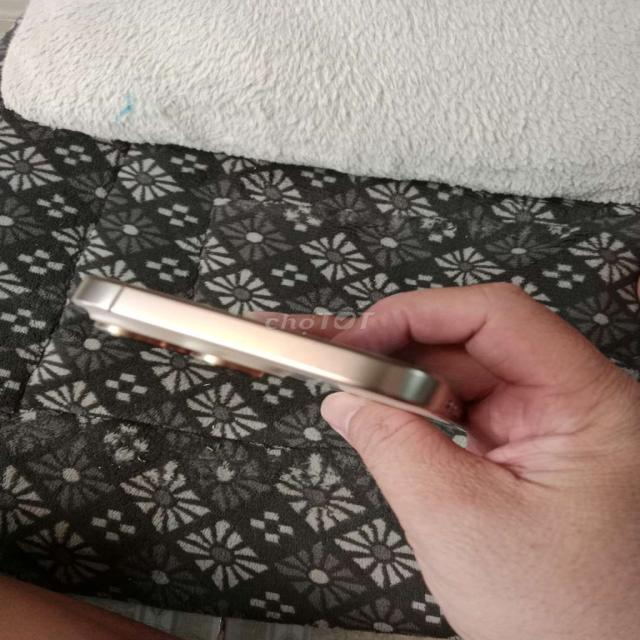gen_16: (72, 276, 462, 425)
